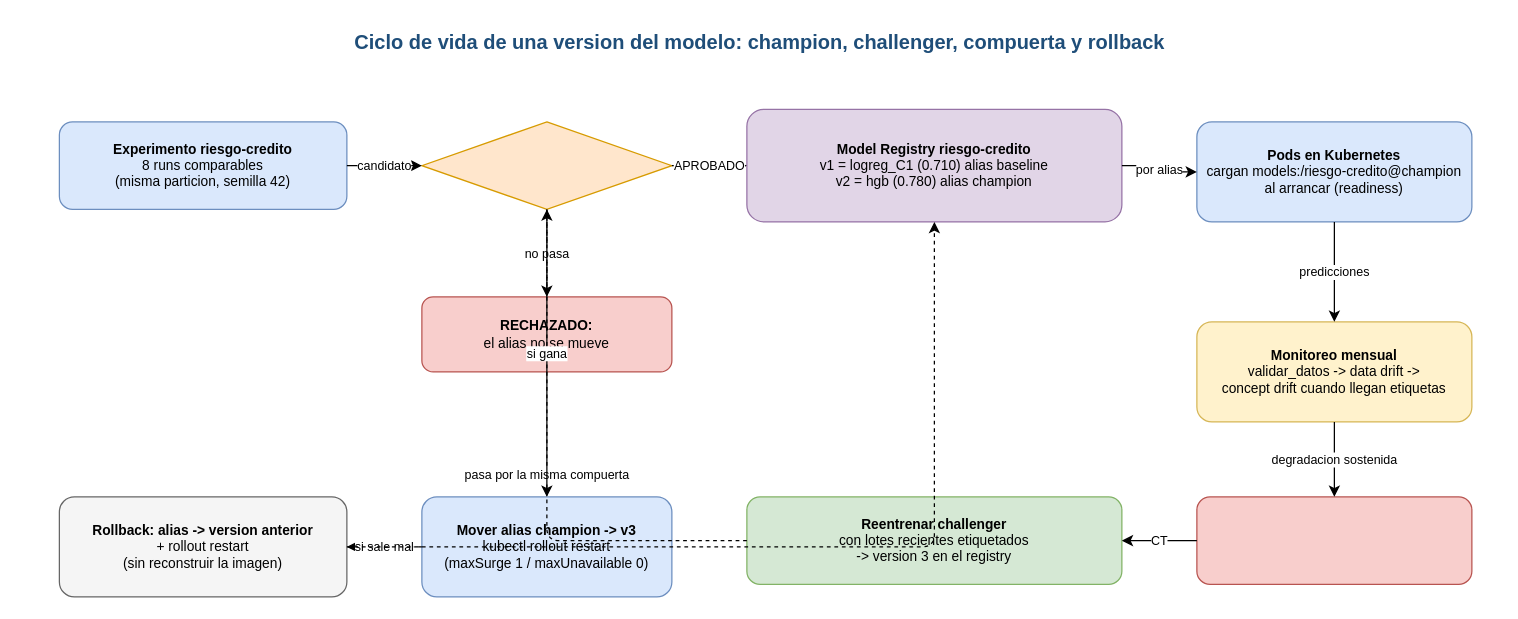
Image size: 1518x619. Some labels were removed from this diagram. Here are the shapes that lost their labels. From the top down, the centre of each, then its label:
At [546,165]: "Compuerta de calidad roc_auc >= 0.75 y > champion actual".
At [1334,540]: "Alarma roc_auc cae > 0.05 por 3 lotes (o > 0.12 en uno)".
